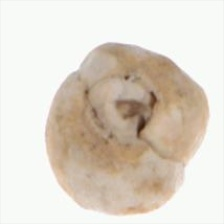L3: (83, 72, 159, 150)
L4: (44, 41, 209, 216)
